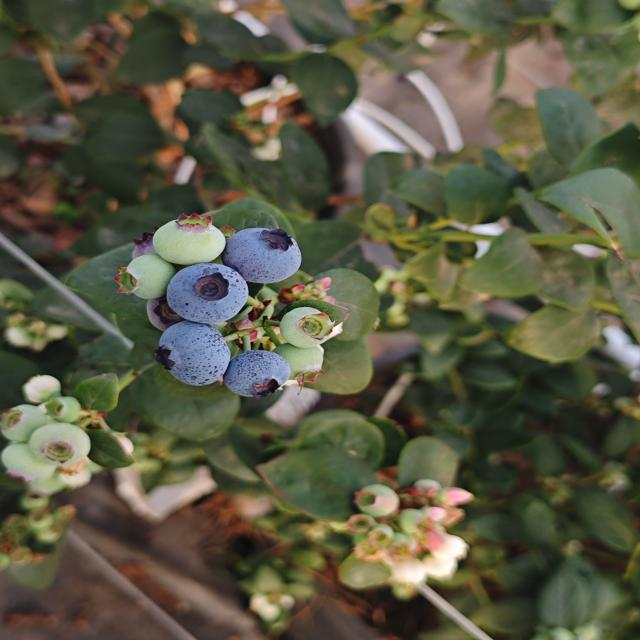ripe: (164, 261, 250, 325), (152, 320, 232, 388), (221, 226, 304, 286), (221, 348, 293, 400)
